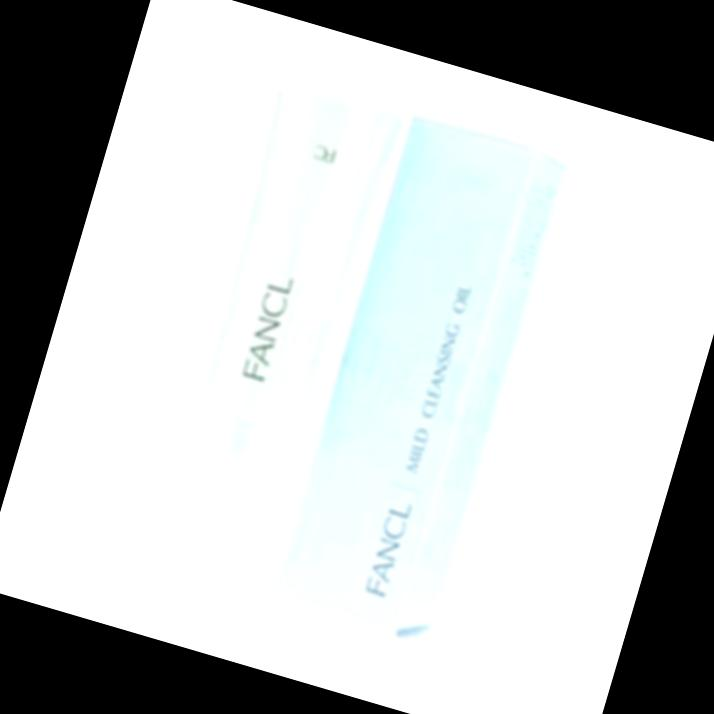cosmetic: (134, 81, 403, 576)
